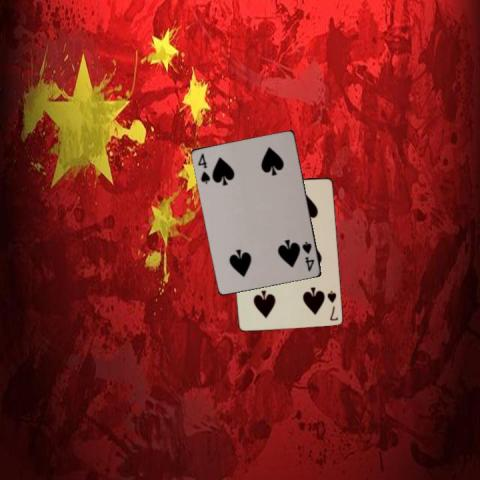4s: (195, 151, 212, 185), (299, 239, 316, 272)
7s: (324, 287, 339, 322)
